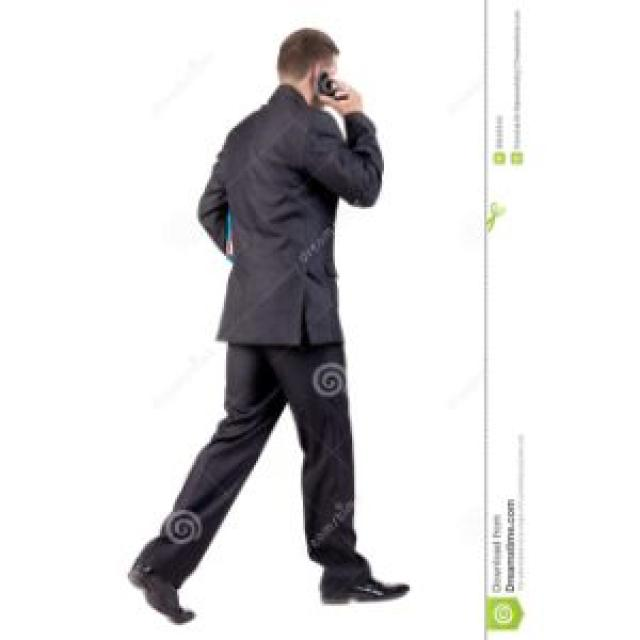nonfall: (130, 21, 430, 614)
